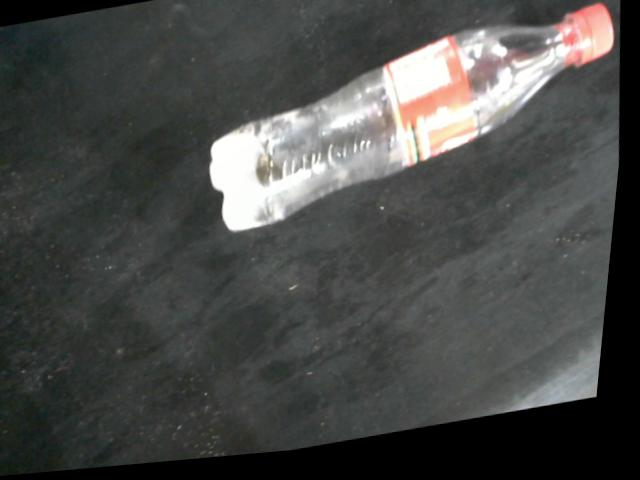bottle: (213, 13, 617, 237)
